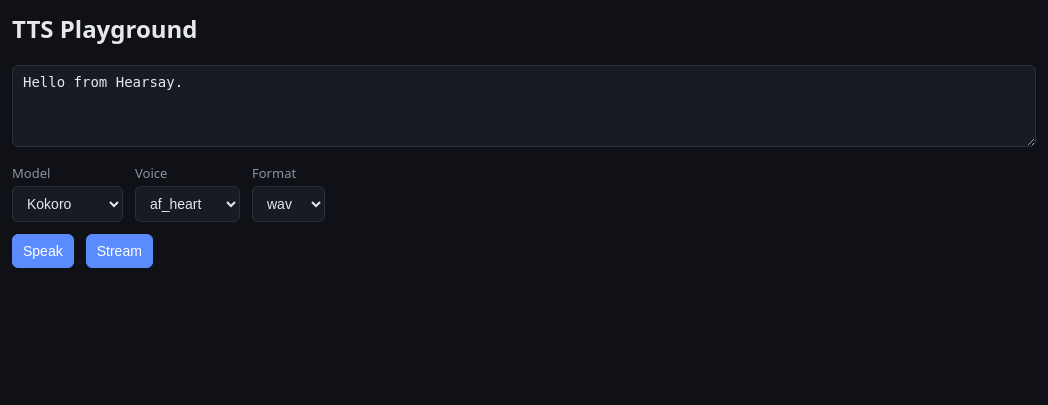
TtsPlayground › streams audio and reports byte count
This screenshot has width=1048, height=405.
What coordinates should you click on to do the following:
click the button "Stream"
I would click on:
 (119, 251)
Its box is top-left (86, 234), bottom-right (153, 268).
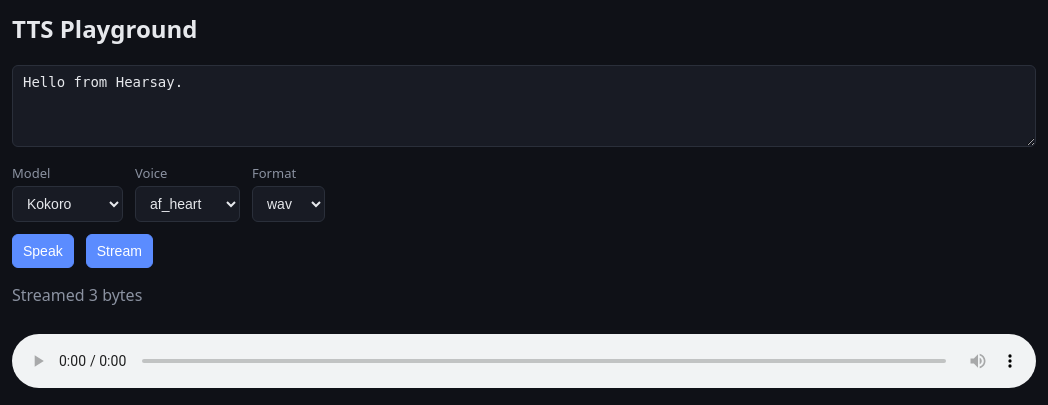
Check: the text "Streamed 3 bytes" is shown, box top-left (12, 284), bottom-right (142, 306)
